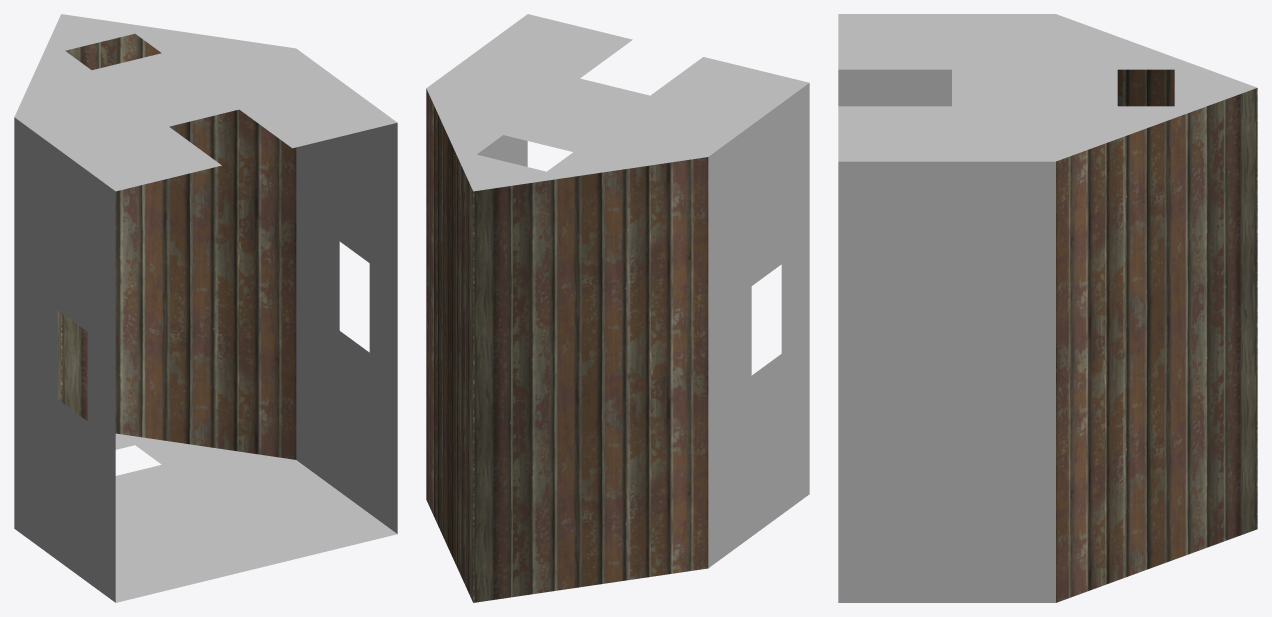
Rendered from Pirate_House_Exterior_Type02_A.fbx.
3 views of the same model, side by side, from view 1: azimuth 30°, elevation 25°; view 2: azimuth 150°, elevation 25°; view 3: azimuth 270°, elevation 25° (orthographic). The views are drawn at different scales.
Parts seen in each view (by area): view 1: Pirate_House_Exterior_Type02_A; view 2: Pirate_House_Exterior_Type02_A; view 3: Pirate_House_Exterior_Type02_A.
Part boxes in pixels (x1=…): Pirate_House_Exterior_Type02_A: x1=14, y1=14, x2=397, y2=602; Pirate_House_Exterior_Type02_A: x1=426, y1=14, x2=809, y2=602; Pirate_House_Exterior_Type02_A: x1=838, y1=14, x2=1257, y2=602.
Size of the model in its own units: 6.49 by 9.05 by 7.79.
